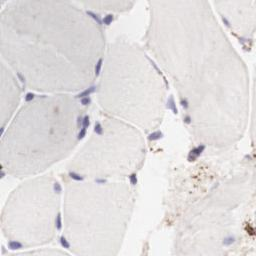nucleus: (145, 54, 160, 73), (76, 86, 99, 97), (167, 93, 178, 115), (86, 11, 103, 25), (218, 13, 231, 30), (95, 57, 103, 76), (146, 131, 164, 139), (59, 235, 70, 248), (8, 240, 22, 250), (69, 171, 84, 180), (55, 214, 62, 230), (78, 128, 87, 140), (103, 15, 113, 25), (225, 234, 233, 246), (196, 144, 205, 154), (82, 115, 89, 127), (95, 123, 102, 135), (81, 96, 90, 105), (54, 182, 61, 193), (25, 93, 34, 101), (130, 173, 138, 182), (181, 98, 188, 108), (18, 74, 25, 83), (236, 37, 248, 42), (93, 179, 108, 183), (1, 245, 7, 255), (184, 116, 192, 123), (1, 126, 5, 137), (1, 171, 5, 179), (245, 153, 250, 159), (40, 95, 48, 98)
positive_cell: (232, 32, 252, 52), (188, 144, 206, 160)
